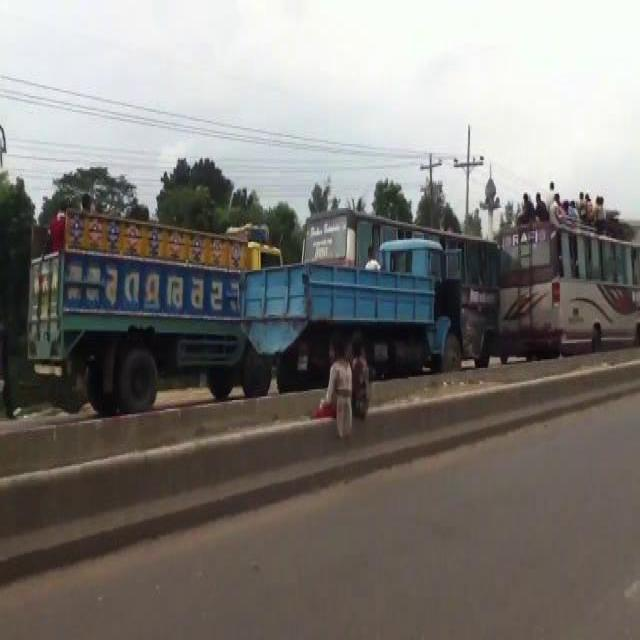18: (24, 208, 286, 414), (234, 234, 470, 399)
Truck: (495, 215, 639, 368)
